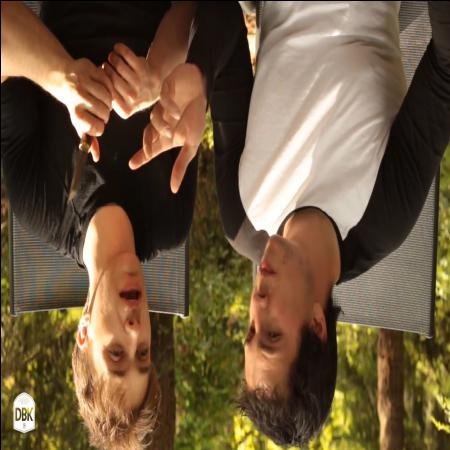long weapon: (56, 92, 112, 218)
